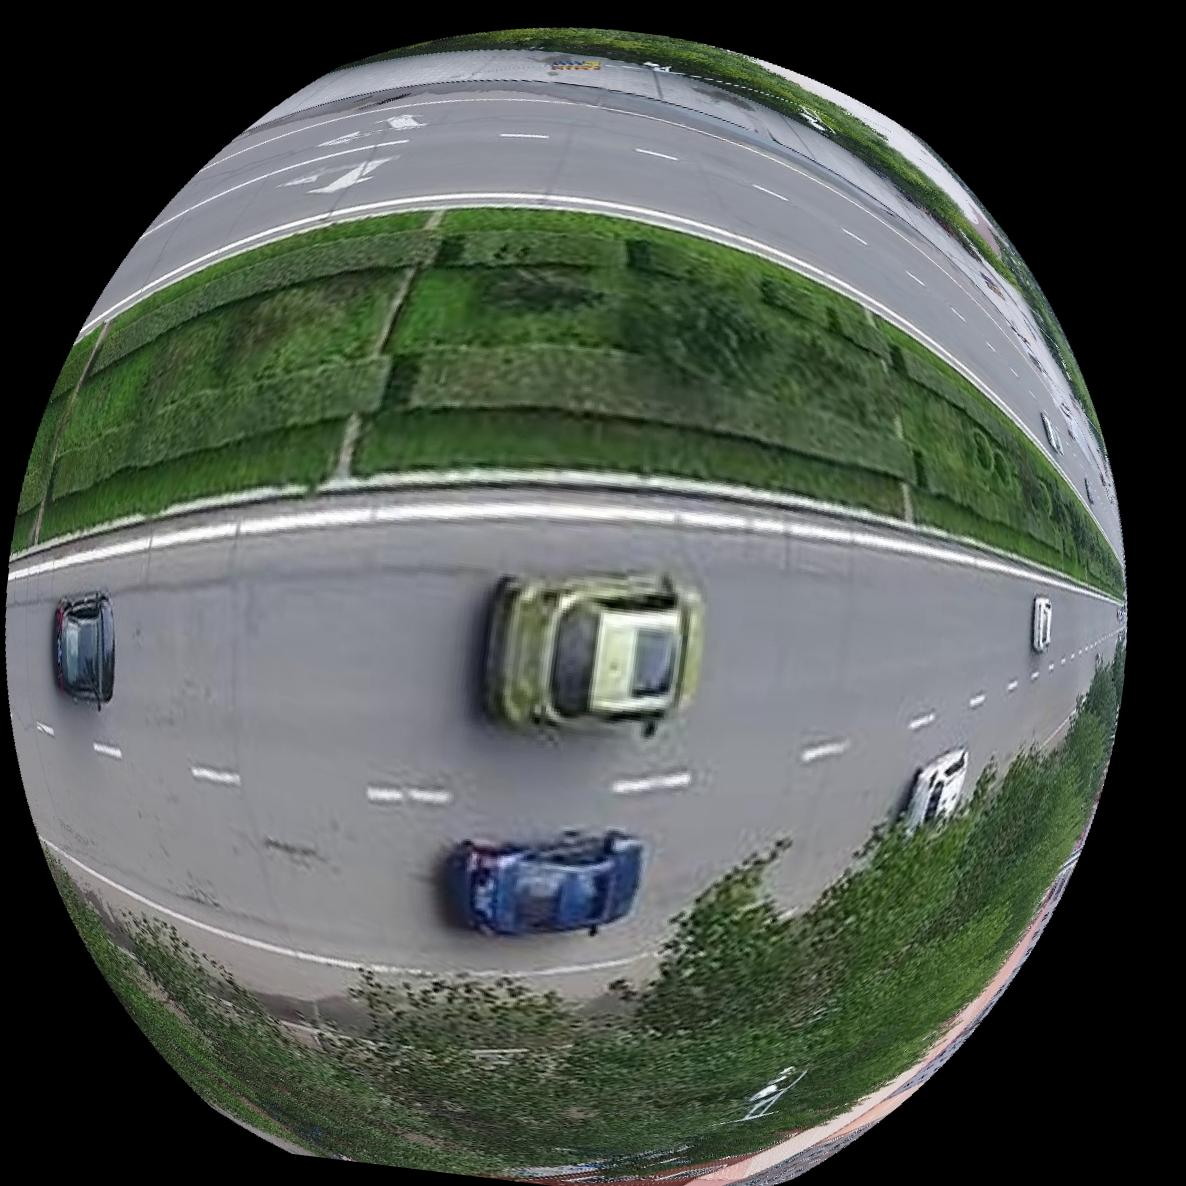cars: (482, 573, 703, 737), (446, 832, 647, 938), (51, 591, 111, 710), (901, 749, 967, 835), (1031, 596, 1052, 654)
trees: (54, 655, 1122, 1178)
